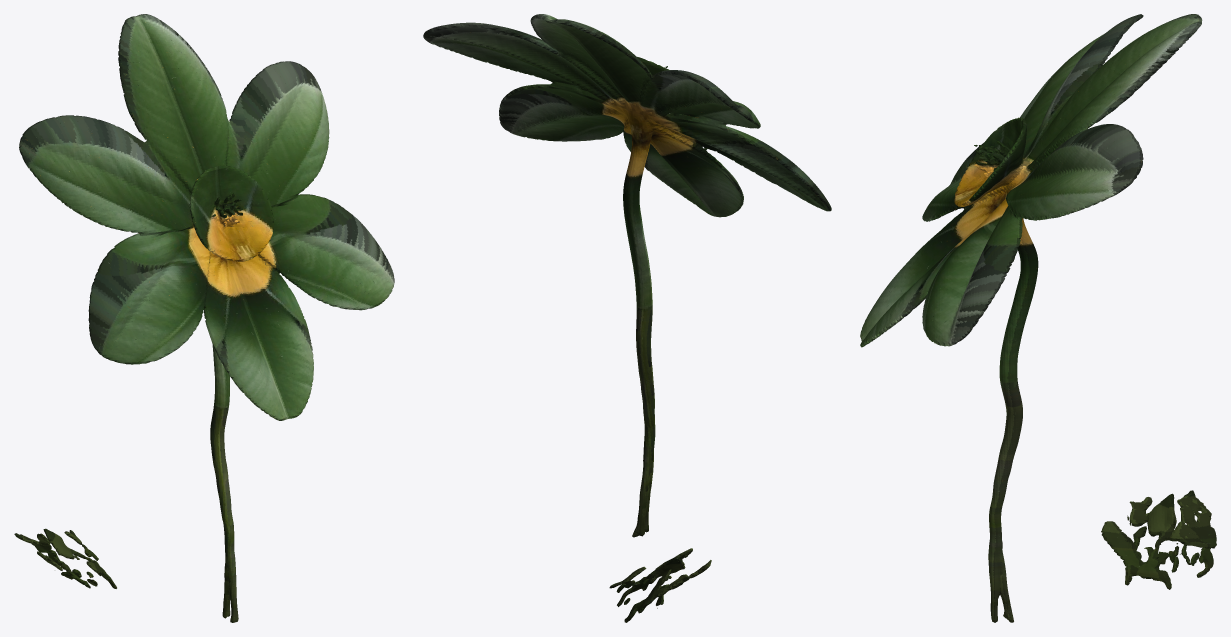
Rendered from flower.glb.
3 renders of one model, left to right at view 1: azimuth 30°, elevation 25°; view 2: azimuth 150°, elevation 25°; view 3: azimuth 270°, elevation 25°, orthographic. The views are drawn at different scales.
Parts seen in each view (by area): view 1: geometry_0; view 2: geometry_0; view 3: geometry_0.
Part boxes in pixels (x1,y1,x2,y2): geometry_0: (14,14,394,622); geometry_0: (423,14,831,622); geometry_0: (860,14,1216,622).
Size of the model in its own units: 0.5801 by 1 by 0.5396.
Materials: 1 (1 with a texture image).
